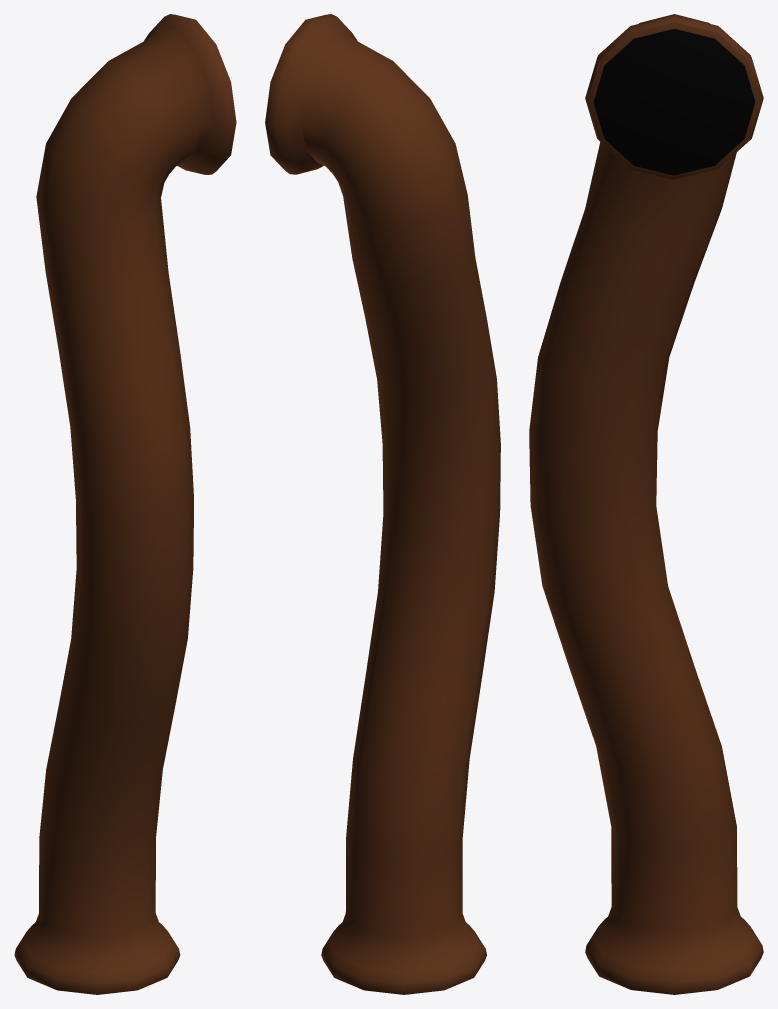
Rendered from Pipe_Curve_05x05_4m_Bent_R.fbx.
3 views of the same model, side by side, from view 1: azimuth 30°, elevation 25°; view 2: azimuth 150°, elevation 25°; view 3: azimuth 270°, elevation 25° (orthographic). The views are drawn at different scales.
Visible parts, largest first — view 1: Pipe_Curve_05x05_4m_Bent_R; view 2: Pipe_Curve_05x05_4m_Bent_R; view 3: Pipe_Curve_05x05_4m_Bent_R.
Boxes of the visible parts, box(x1,y1,x2,y2) form: Pipe_Curve_05x05_4m_Bent_R: box(14, 14, 236, 994); Pipe_Curve_05x05_4m_Bent_R: box(265, 14, 500, 994); Pipe_Curve_05x05_4m_Bent_R: box(529, 14, 763, 994).
Bounding box in the file's own units: 85.53 × 436 × 93.31.
